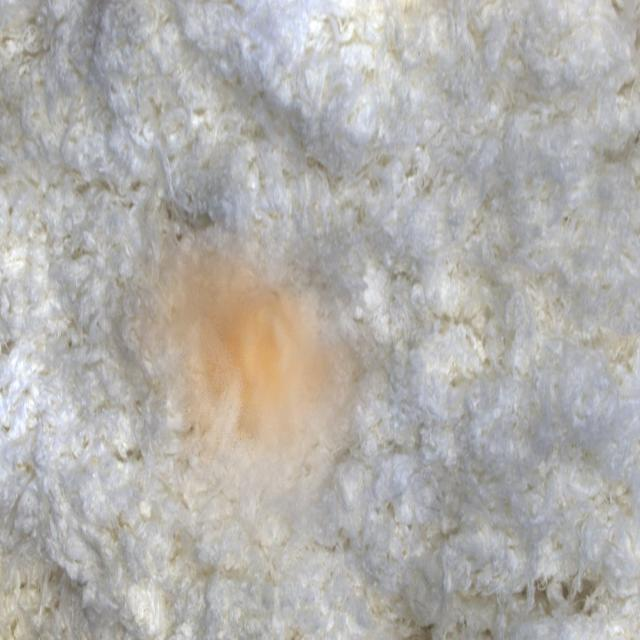dust: (105, 217, 390, 584)
